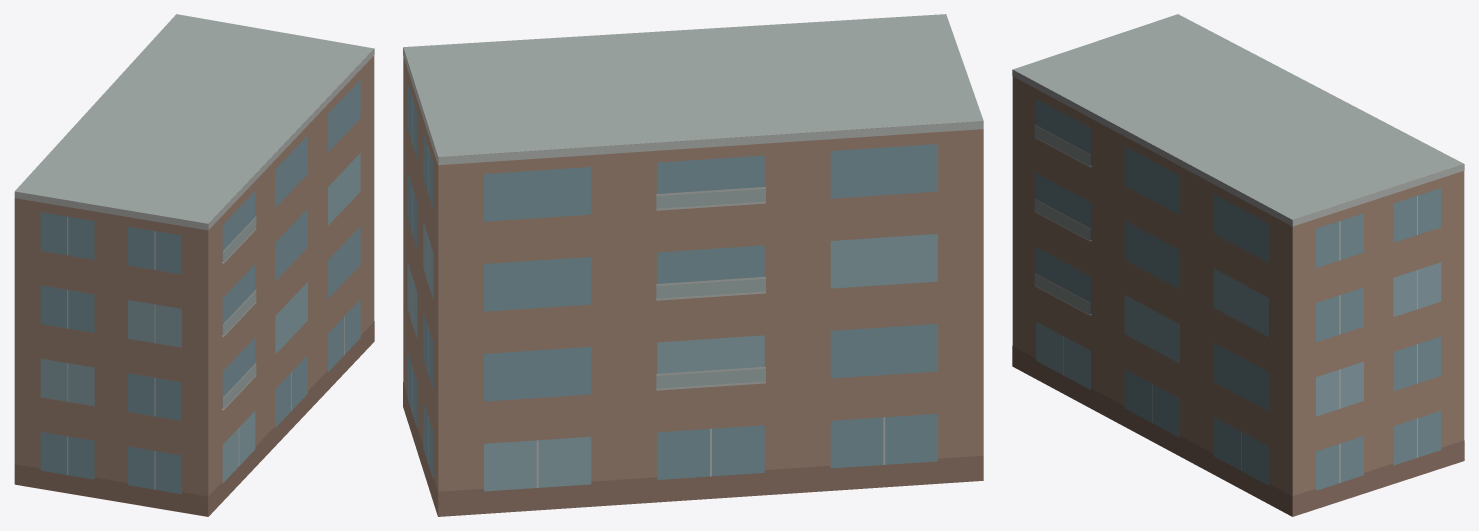
Rendered from survey-upis-32724207.glb.
3 renders of one model, left to right at view 1: azimuth 30°, elevation 25°; view 2: azimuth 150°, elevation 25°; view 3: azimuth 270°, elevation 25°, orthographic. The views are drawn at different scales.
Parts seen in each view (by area): view 1: survey-upis-32724207.tmp; view 2: survey-upis-32724207.tmp; view 3: survey-upis-32724207.tmp.
Boxes of the visible parts, <box> form: survey-upis-32724207.tmp: <box>14,14,374,516</box>; survey-upis-32724207.tmp: <box>403,14,983,516</box>; survey-upis-32724207.tmp: <box>1012,14,1464,516</box>.
Bounding box in the file's own units: 16.07 × 10.8 × 14.9.
